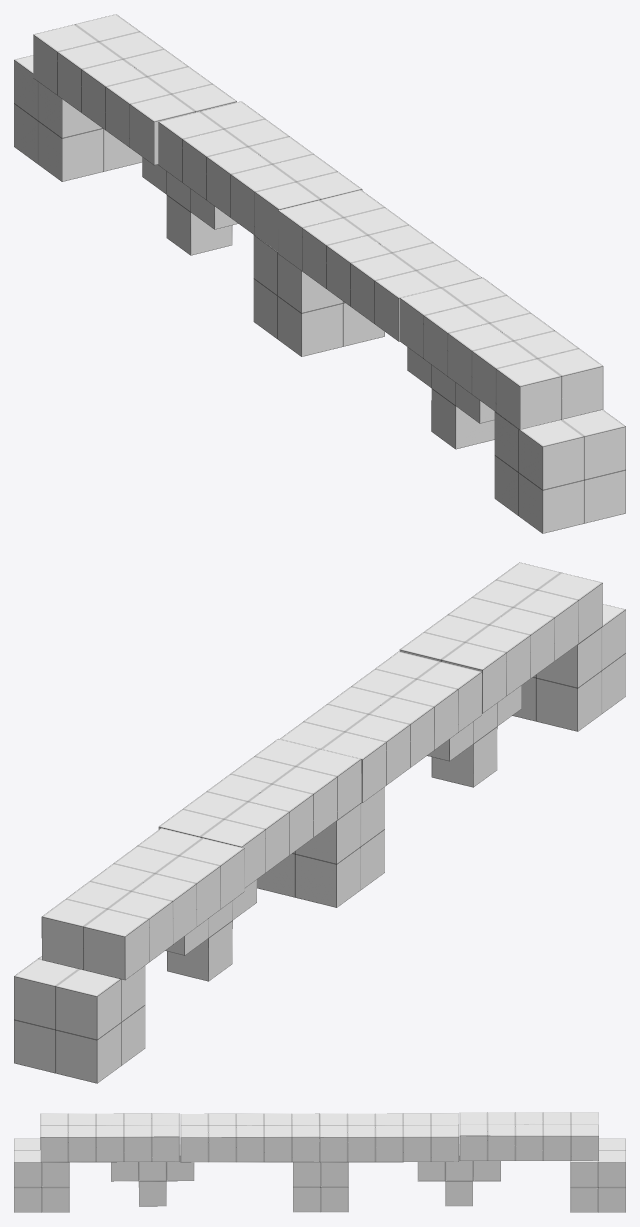
3 views of the same model, one above another, from view 1: azimuth 30°, elevation 25°; view 2: azimuth 150°, elevation 25°; view 3: azimuth 270°, elevation 25° (orthographic). The views are drawn at different scales.
Parts seen in each view (by area): view 1: GridPlank_0:2, GridPlank_0, GridPlank_0:3, GridPlank_0:1, Plane/BasicEnvironment/StartCube-1, GridCube_0, Plane/BasicEnvironment/StartCube-2, GridTShape_0, GridTShape_0:1; view 2: GridPlank_0, GridPlank_0:2, GridPlank_0:3, GridPlank_0:1, Plane/BasicEnvironment/StartCube-2, GridCube_0, Plane/BasicEnvironment/StartCube-1, GridTShape_0:1, GridTShape_0; view 3: GridPlank_0:3, GridPlank_0:2, GridPlank_0:1, GridPlank_0, Plane/BasicEnvironment/StartCube-2, Plane/BasicEnvironment/StartCube-1, GridCube_0, GridTShape_0, GridTShape_0:1.
Boxes of the visible parts, x1,y1,x2,y2 form: GridPlank_0:2: [400, 277, 603, 429]; GridPlank_0: [33, 14, 236, 165]; GridPlank_0:3: [278, 189, 481, 341]; GridPlank_0:1: [158, 101, 362, 251]; Plane/BasicEnvironment/StartCube-1: [494, 409, 625, 533]; GridCube_0: [253, 235, 384, 356]; Plane/BasicEnvironment/StartCube-2: [14, 55, 142, 181]; GridTShape_0: [142, 157, 238, 255]; GridTShape_0:1: [407, 347, 494, 449]; GridPlank_0: [41, 828, 244, 980]; GridPlank_0:2: [399, 562, 602, 713]; GridPlank_0:3: [280, 651, 481, 802]; GridPlank_0:1: [158, 739, 361, 887]; Plane/BasicEnvironment/StartCube-2: [14, 956, 145, 1083]; GridCube_0: [257, 787, 384, 907]; Plane/BasicEnvironment/StartCube-1: [512, 604, 625, 731]; GridTShape_0:1: [427, 686, 521, 787]; GridTShape_0: [165, 879, 256, 981]; GridPlank_0:3: [180, 1113, 319, 1162]; GridPlank_0:2: [40, 1113, 179, 1162]; GridPlank_0:1: [319, 1113, 458, 1162]; GridPlank_0: [459, 1112, 598, 1160]; Plane/BasicEnvironment/StartCube-2: [570, 1138, 625, 1212]; Plane/BasicEnvironment/StartCube-1: [14, 1138, 69, 1212]; GridCube_0: [293, 1162, 348, 1212]; GridTShape_0: [417, 1144, 500, 1206]; GridTShape_0:1: [111, 1144, 194, 1206].
Size of the model in its own units: 0.2117 by 0.3015 by 2.2.
